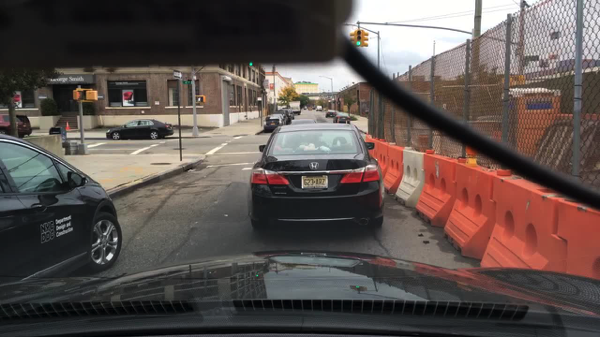car: (0, 134, 122, 286), (250, 122, 384, 232), (107, 119, 174, 139), (0, 115, 32, 138), (264, 114, 283, 132), (273, 111, 290, 127), (278, 110, 293, 126), (269, 114, 287, 126), (332, 113, 351, 124), (285, 108, 295, 121), (324, 110, 335, 118), (301, 104, 307, 112), (316, 105, 322, 112), (311, 105, 316, 111)
traffic light: (360, 30, 369, 48), (73, 88, 84, 102), (85, 91, 97, 101), (514, 74, 524, 86), (348, 31, 355, 46), (355, 30, 360, 46), (196, 96, 205, 104), (507, 75, 513, 87), (248, 60, 253, 67)
traffic sign: (13, 91, 21, 108), (521, 55, 540, 61), (172, 70, 182, 78), (513, 48, 522, 54), (181, 81, 192, 84)
truck: (289, 101, 300, 116)
